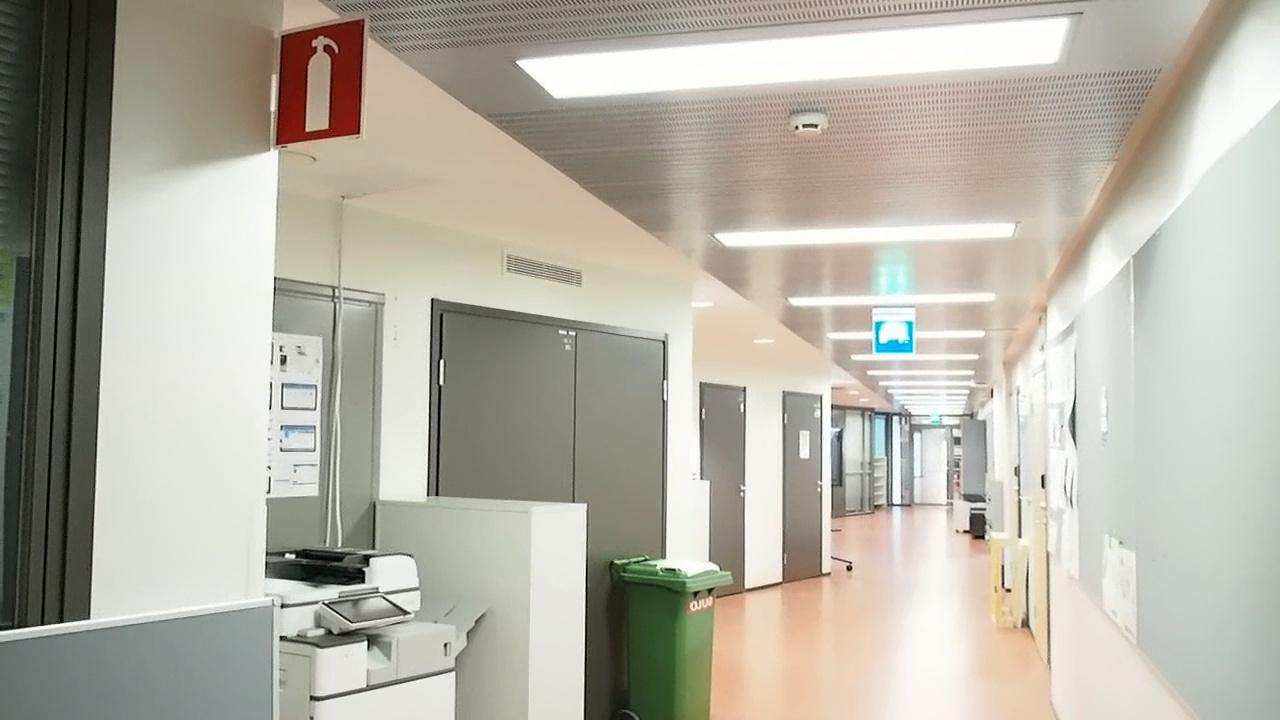fireextinguisher: (278, 24, 358, 137)
trashbin: (613, 557, 730, 709)
